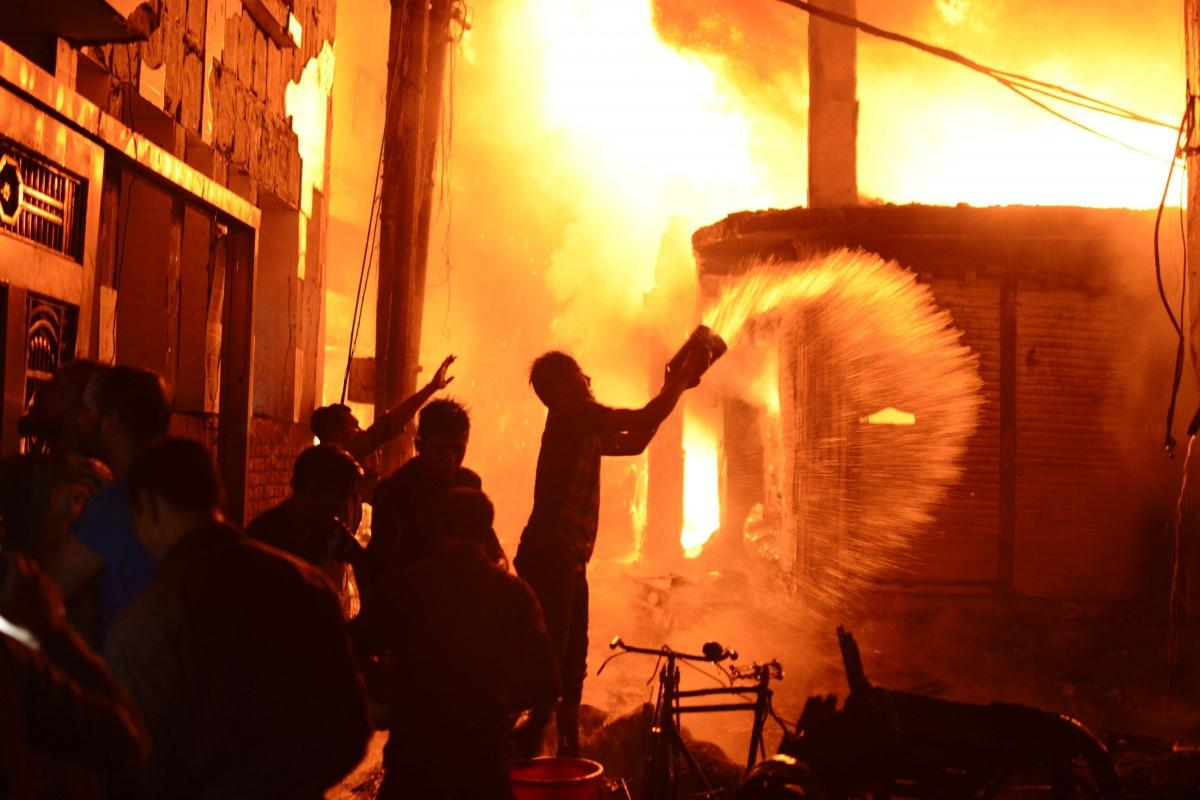Fire: (590, 5, 1200, 567)
